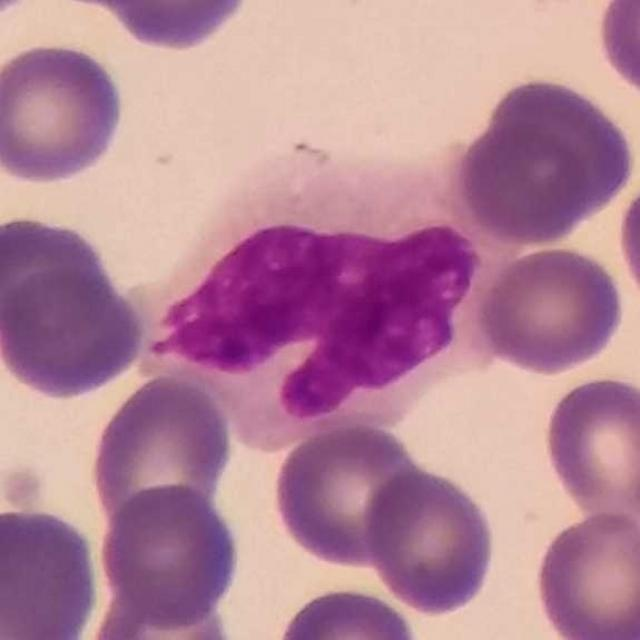Monocyte: (135, 147, 530, 455)
RBC: (454, 72, 639, 247), (268, 418, 428, 571), (86, 371, 237, 533), (94, 481, 245, 628), (360, 463, 500, 618), (472, 243, 628, 376), (1, 265, 148, 403), (0, 37, 130, 187), (0, 208, 116, 347), (538, 370, 640, 526), (531, 506, 640, 640), (0, 503, 105, 640), (85, 582, 238, 640), (272, 583, 423, 640), (99, 0, 253, 53), (592, 0, 640, 107), (613, 163, 640, 320)
